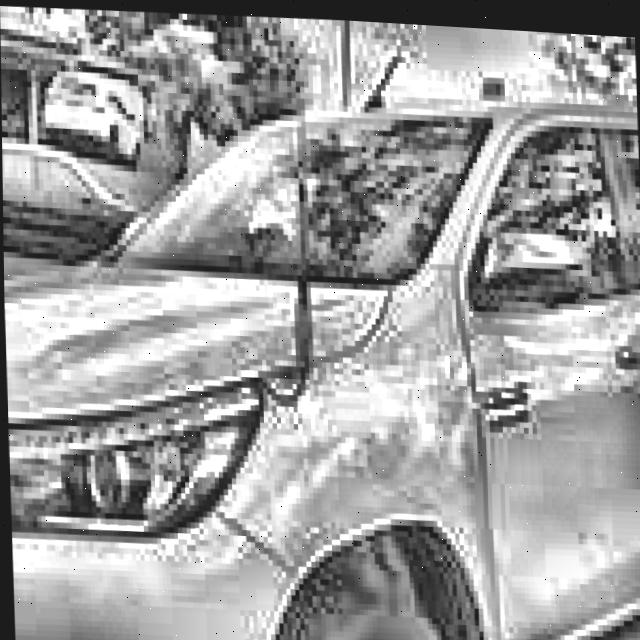light_vehicle: (0, 39, 640, 640)
